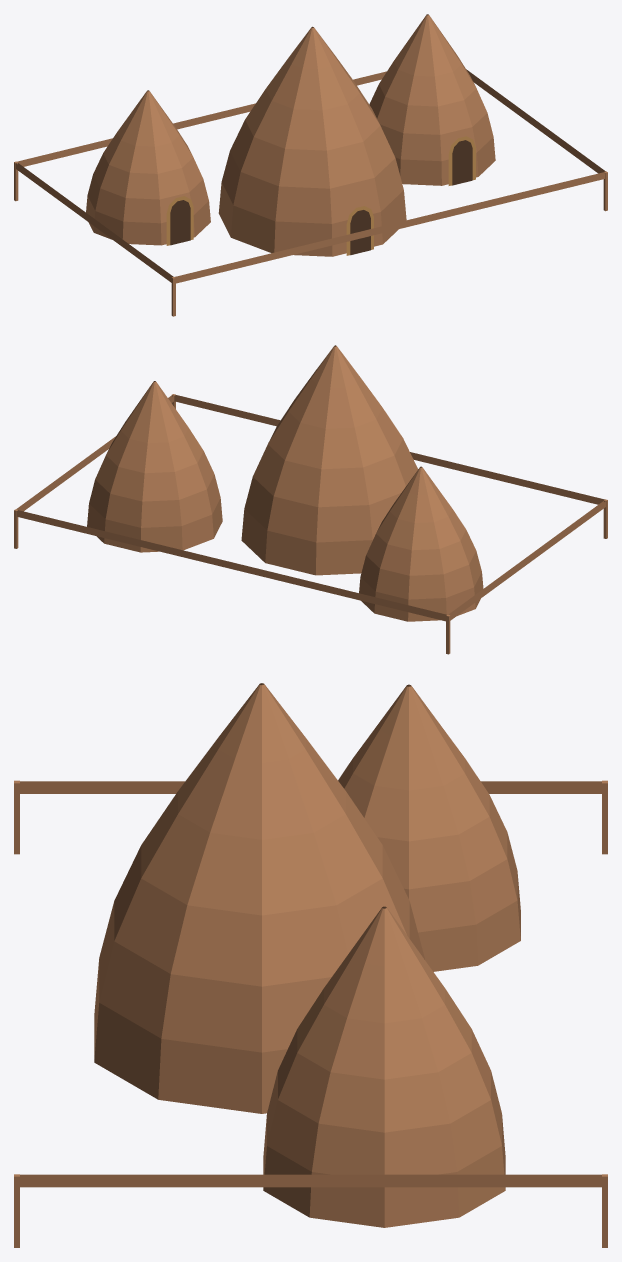
The model's file is case_obus.glb.
3 views of the same model, one above another, from view 1: azimuth 30°, elevation 25°; view 2: azimuth 150°, elevation 25°; view 3: azimuth 270°, elevation 25° (orthographic). The views are drawn at different scales.
Visible parts, largest first — view 1: case_obus; view 2: case_obus; view 3: case_obus.
Boxes of the visible parts, x1,y1,x2,y2 form: case_obus: (14,14,607,316); case_obus: (14,345,607,654); case_obus: (14,683,607,1247).
Size of the model in its own units: 19.12 by 8 by 12.12.
Materials: 1 (1 with a texture image).
